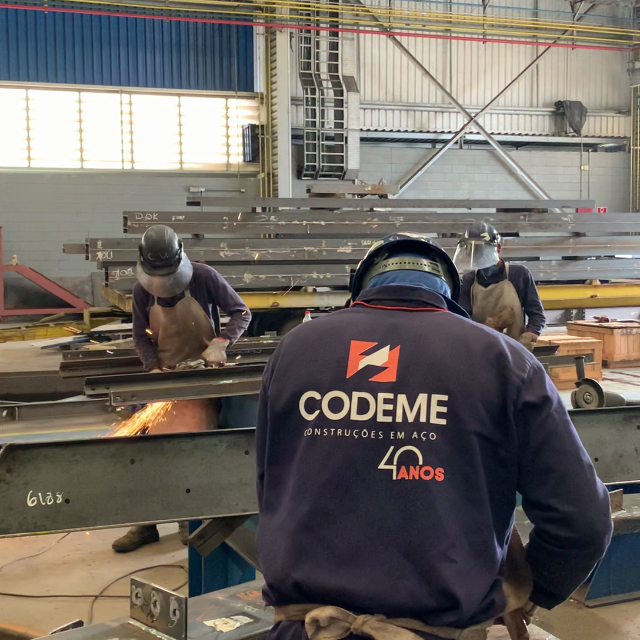face-shield: (134, 247, 195, 297), (450, 239, 498, 273)
glove: (204, 332, 228, 365)
helmet: (346, 236, 462, 306), (142, 222, 182, 273), (462, 221, 501, 243)
person: (254, 236, 617, 613), (134, 225, 253, 367), (454, 220, 550, 354)
